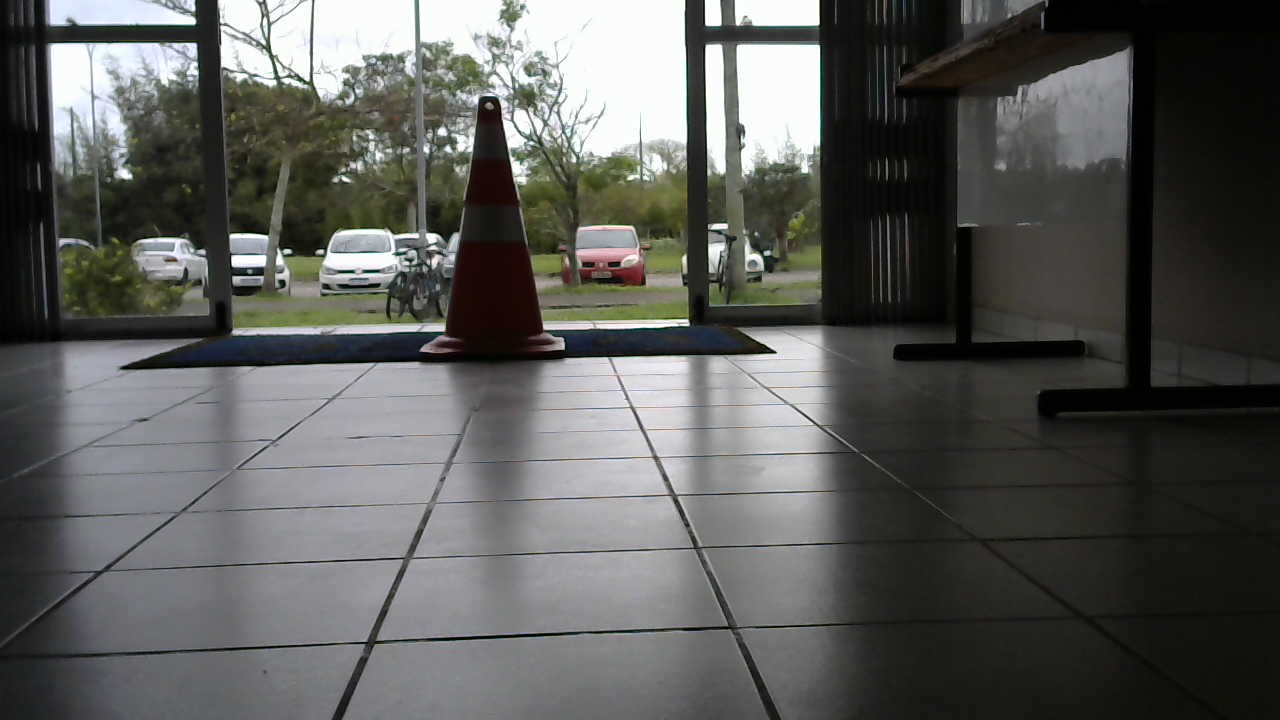cone: (417, 97, 565, 359)
